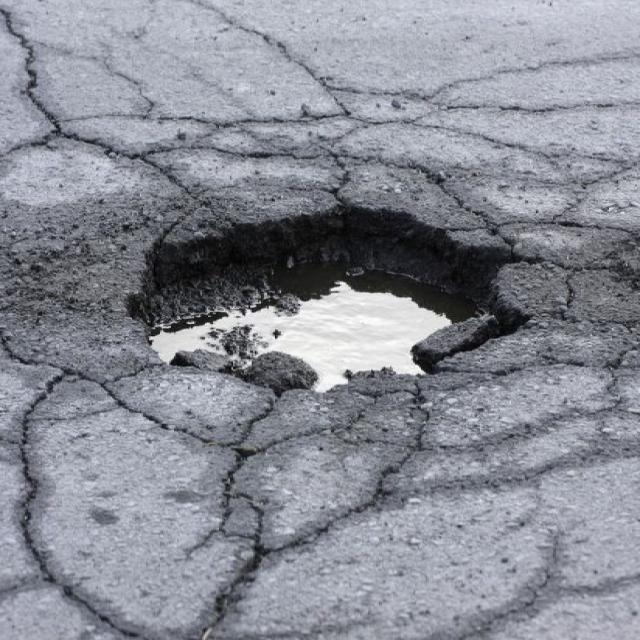Pothole: (114, 192, 543, 397)
